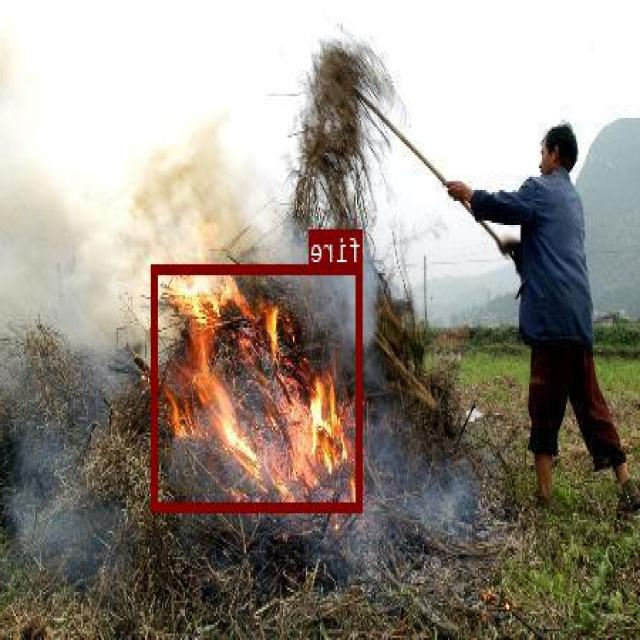fire: (153, 263, 363, 509)
